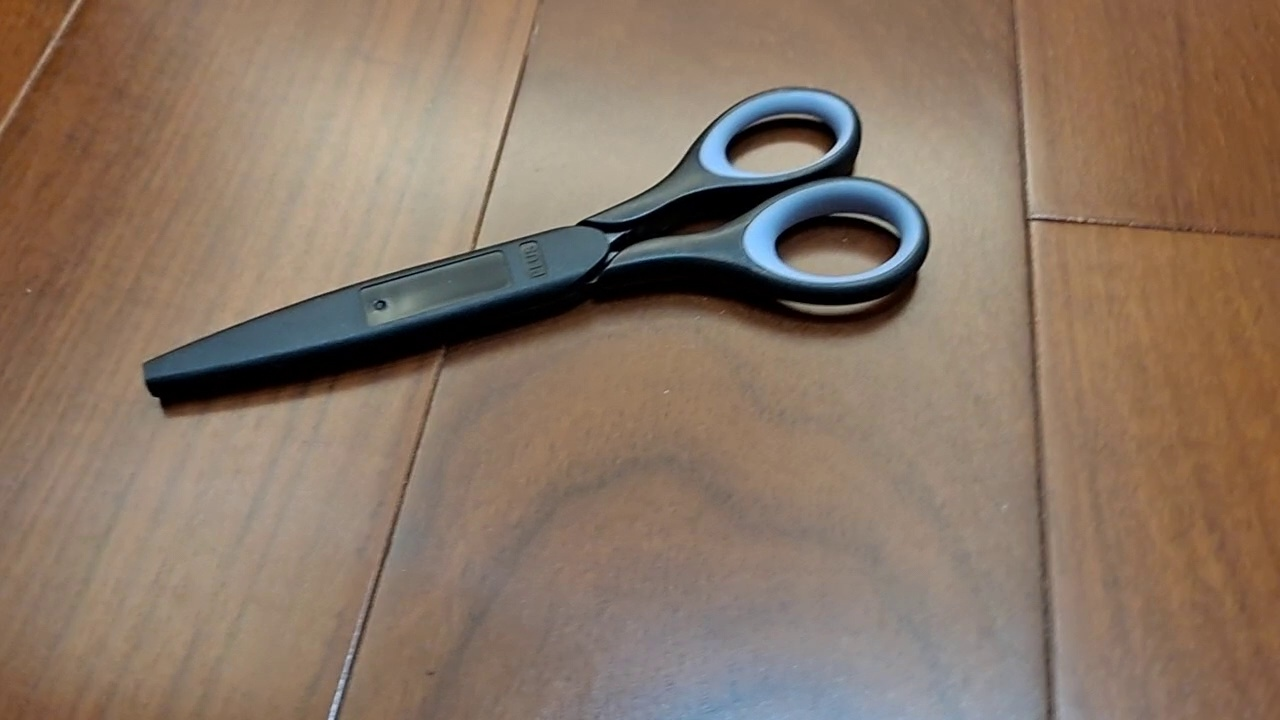scissors: (139, 84, 932, 413)
